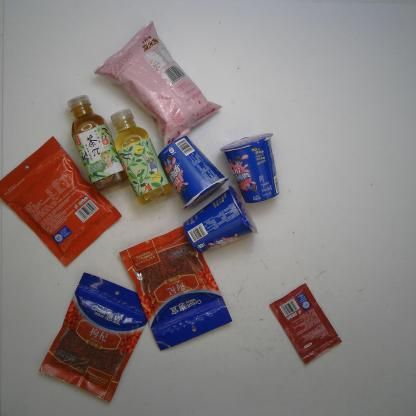Dessert: (158, 136, 230, 211), (183, 186, 258, 254), (220, 133, 280, 204)
Dried Fruit: (0, 136, 122, 268), (38, 271, 148, 404), (118, 225, 233, 351)
Drink: (67, 93, 128, 194), (110, 108, 172, 205)
Puffed Food: (94, 20, 222, 150)
Seasoner: (268, 282, 342, 366)
